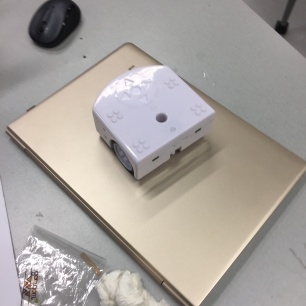thymio: (88, 62, 216, 181)
